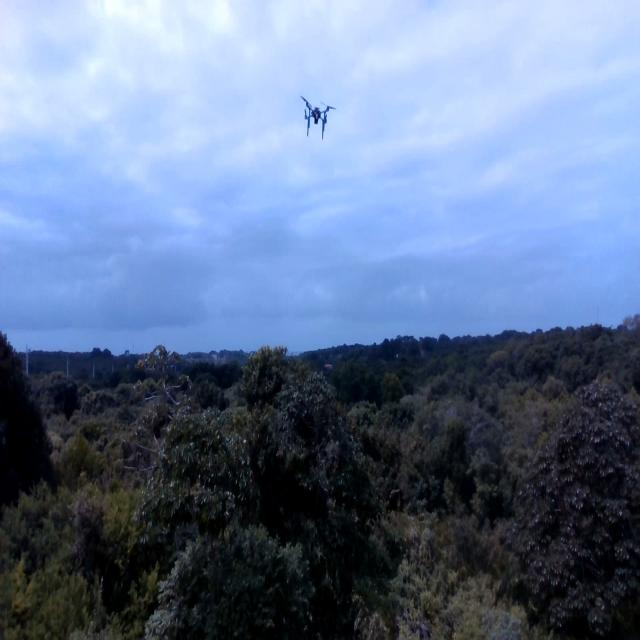-uav-: (294, 84, 339, 146)
